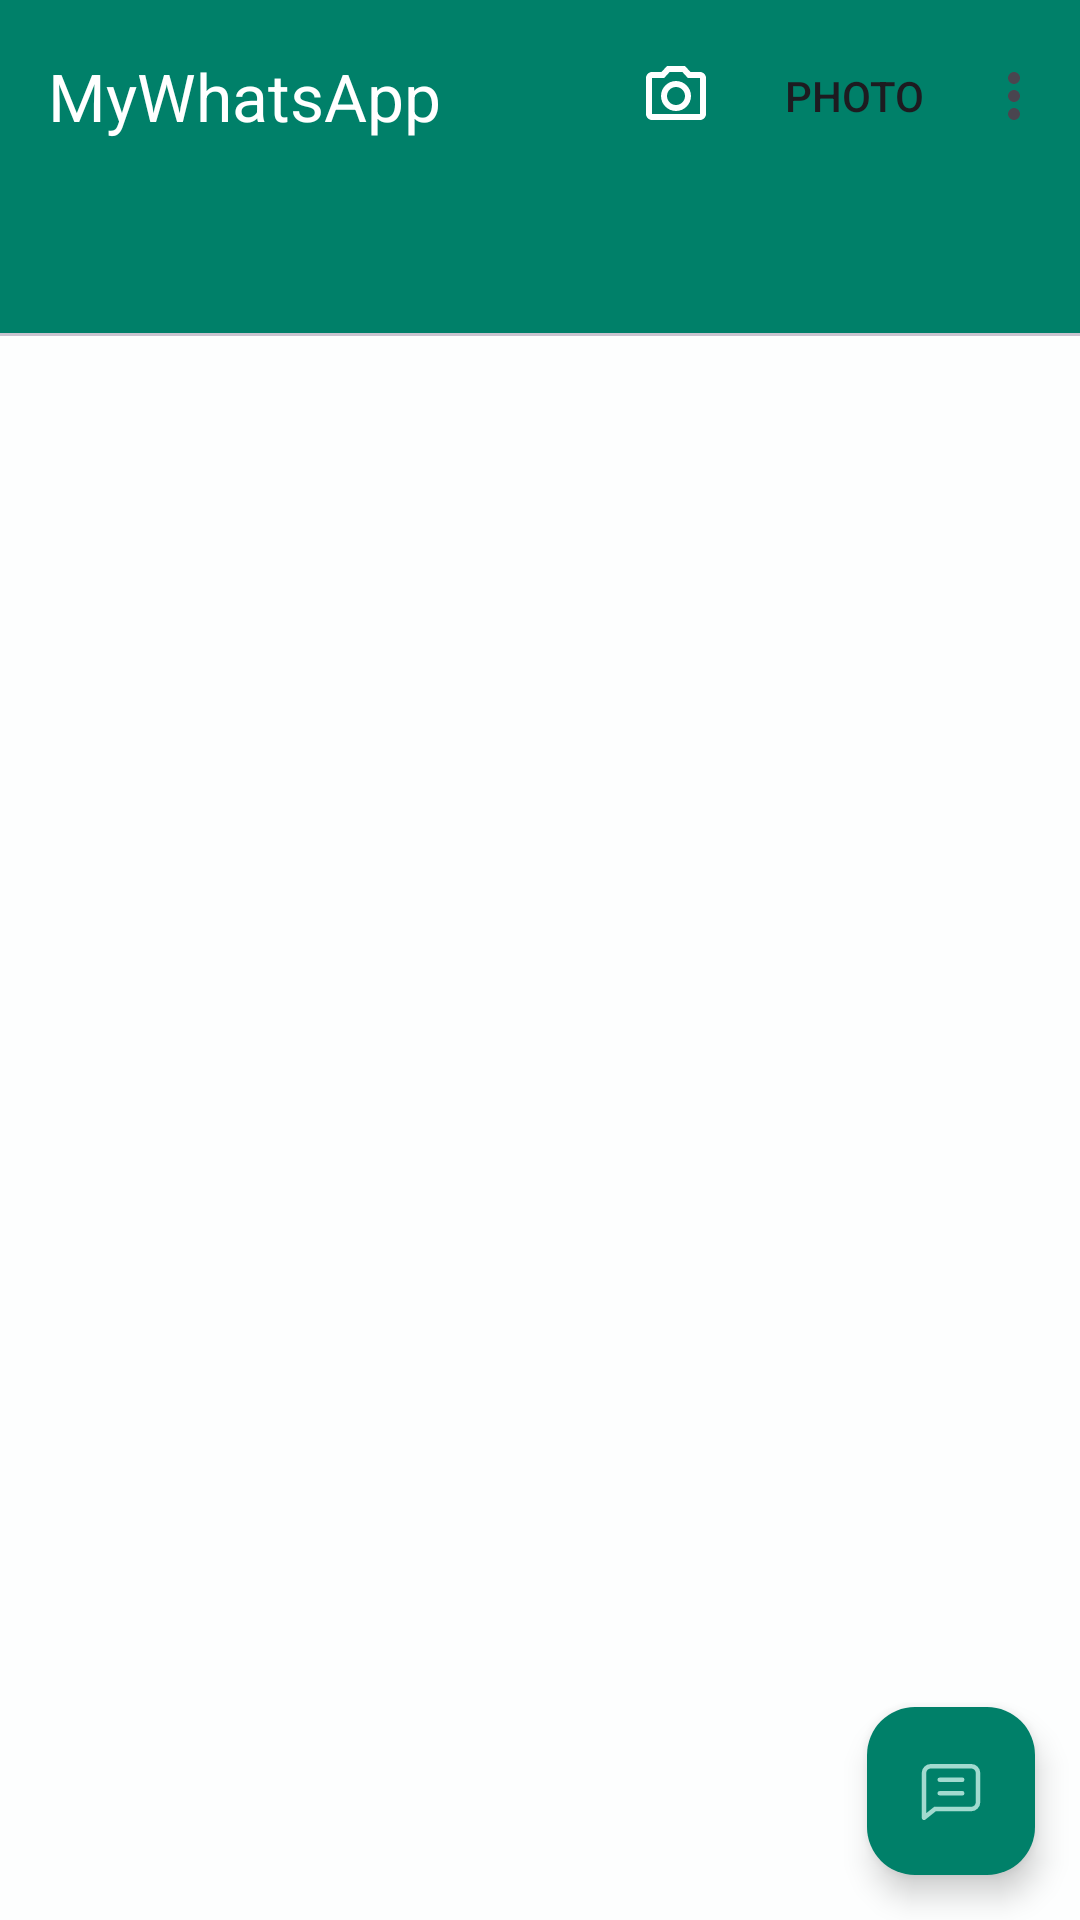

Screen size 1080 × 1920. Icon name, then its box in pixels as (x1, y1, x2, y2):
chat: (867, 1707, 1035, 1875)
